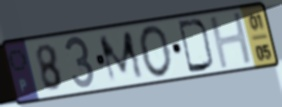3: (63, 33, 98, 93)
8: (34, 42, 65, 94)
D: (175, 18, 216, 75)
H: (207, 10, 255, 72)
M: (96, 28, 147, 86)
O: (137, 23, 174, 80)
